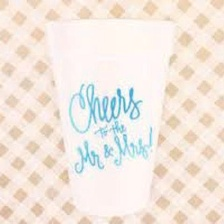paper_cup: (37, 14, 180, 220)
